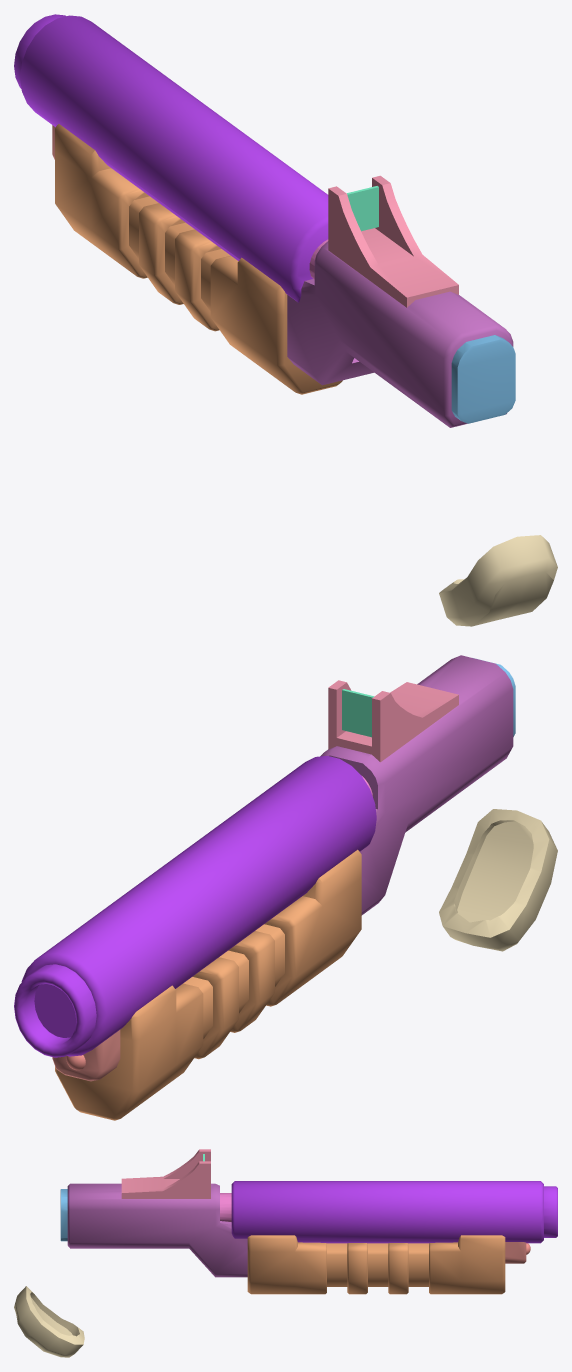
The picture shows the model from 3 angles, top to bottom: view 1: azimuth 30°, elevation 25°; view 2: azimuth 150°, elevation 25°; view 3: azimuth 270°, elevation 25°; orthographic projection. The views are drawn at different scales.
Visible parts, largest first — view 1: For_texturing_lambert1_0.011, For_texturing_lambert1_0.002, For_texturing_lambert1_0.012, For_texturing_lambert1_0.004, For_texturing_lambert1_0.008, For_texturing_lambert1_0.029, For_texturing_lambert1_0.031; view 2: For_texturing_lambert1_0.011, For_texturing_lambert1_0.002, For_texturing_lambert1_0.012, For_texturing_lambert1_0.008, For_texturing_lambert1_0.004, For_texturing_lambert1_0.037, For_texturing_lambert1_0.031; view 3: For_texturing_lambert1_0.011, For_texturing_lambert1_0.002, For_texturing_lambert1_0.012, For_texturing_lambert1_0.008, For_texturing_lambert1_0.004, For_texturing_lambert1_0.037, For_texturing_lambert1_0.029, split_parent_7.
Part boxes in pixels (x1,y1,x2,y2): For_texturing_lambert1_0.011: (14,14,328,302); For_texturing_lambert1_0.002: (55,124,342,394); For_texturing_lambert1_0.012: (287,241,513,427); For_texturing_lambert1_0.004: (328,175,458,307); For_texturing_lambert1_0.008: (439,535,557,626); For_texturing_lambert1_0.029: (451,335,515,423); For_texturing_lambert1_0.031: (347,186,378,231); For_texturing_lambert1_0.011: (14,756,376,1057); For_texturing_lambert1_0.002: (55,849,361,1120); For_texturing_lambert1_0.012: (320,655,513,915); For_texturing_lambert1_0.008: (439,809,557,951); For_texturing_lambert1_0.004: (328,680,458,762); For_texturing_lambert1_0.037: (52,1030,120,1081); For_texturing_lambert1_0.031: (342,689,374,737); For_texturing_lambert1_0.011: (231,1181,557,1243); For_texturing_lambert1_0.002: (247,1235,505,1294); For_texturing_lambert1_0.012: (67,1183,247,1277); For_texturing_lambert1_0.008: (14,1286,84,1357); For_texturing_lambert1_0.004: (121,1149,210,1198); For_texturing_lambert1_0.037: (505,1242,526,1263); For_texturing_lambert1_0.029: (60,1189,67,1241); split_parent_7: (220,1193,231,1221).
Bounding box in the file's own units: 0.1045 × 0.3945 × 1.
